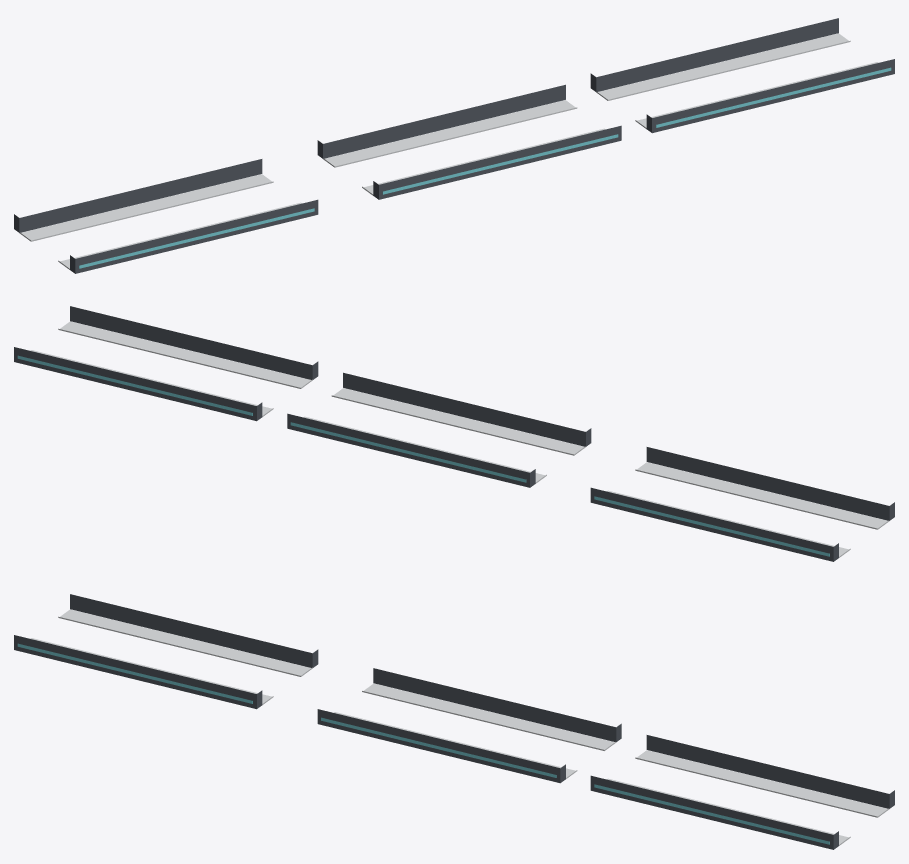
File: ext_maglev_magnet_module_02.glb
The picture shows the model from 3 angles, top to bottom: view 1: azimuth 30°, elevation 25°; view 2: azimuth 150°, elevation 25°; view 3: azimuth 330°, elevation 25°; orthographic projection.
Parts seen in each view (by area): view 1: Magnet_Arms, Lev_Magnets, Lev_Glow; view 2: Magnet_Arms, Lev_Magnets, Lev_Glow; view 3: Magnet_Arms, Lev_Magnets, Lev_Glow.
Boxes of the visible parts, left/top/right/bottom form: Magnet_Arms: left=14, top=18, right=894, bottom=273; Lev_Magnets: left=19, top=33, right=878, bottom=269; Lev_Glow: left=79, top=67, right=891, bottom=268; Magnet_Arms: left=14, top=306, right=894, bottom=561; Lev_Magnets: left=30, top=321, right=889, bottom=557; Lev_Glow: left=17, top=355, right=829, bottom=556; Magnet_Arms: left=14, top=594, right=894, bottom=849; Lev_Magnets: left=30, top=609, right=889, bottom=845; Lev_Glow: left=17, top=643, right=829, bottom=844.
Bounding box in the file's own units: 10.8 × 0.194 × 1.41.
